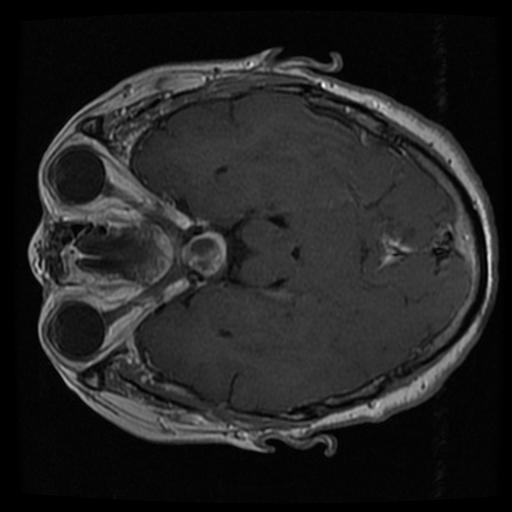pituitary tumour: (181, 232, 228, 277)
